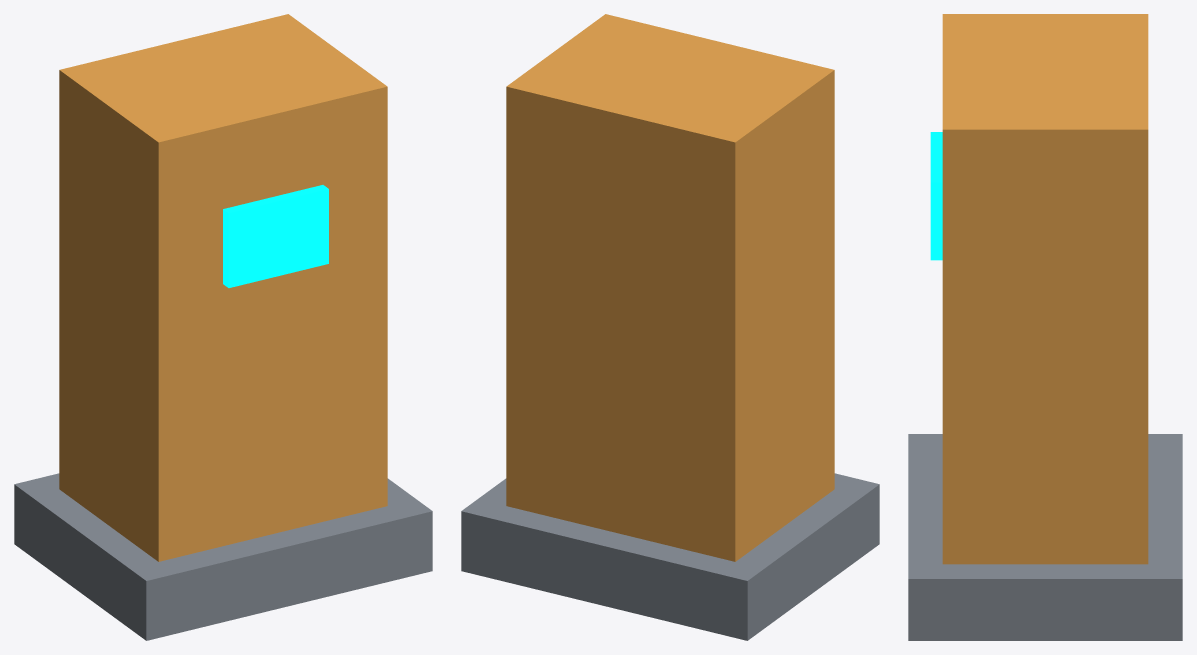
The model's file is fence_power_box.glb.
3 renders of one model, left to right at view 1: azimuth 30°, elevation 25°; view 2: azimuth 150°, elevation 25°; view 3: azimuth 270°, elevation 25°, orthographic. The views are drawn at different scales.
Parts seen in each view (by area): view 1: Cabinet_Body, Plinth, Meter_Screen; view 2: Cabinet_Body, Plinth; view 3: Cabinet_Body, Plinth, Meter_Screen.
Part boxes in pixels (x1,y1,x2,y2): Cabinet_Body: [59, 14, 387, 561]; Plinth: [14, 473, 432, 640]; Meter_Screen: [223, 185, 328, 287]; Cabinet_Body: [506, 14, 834, 561]; Plinth: [461, 473, 879, 640]; Cabinet_Body: [942, 14, 1148, 564]; Plinth: [908, 434, 1182, 640]; Meter_Screen: [930, 132, 942, 260].
Bounding box in the file's own units: 1 × 1.6 × 0.8.
